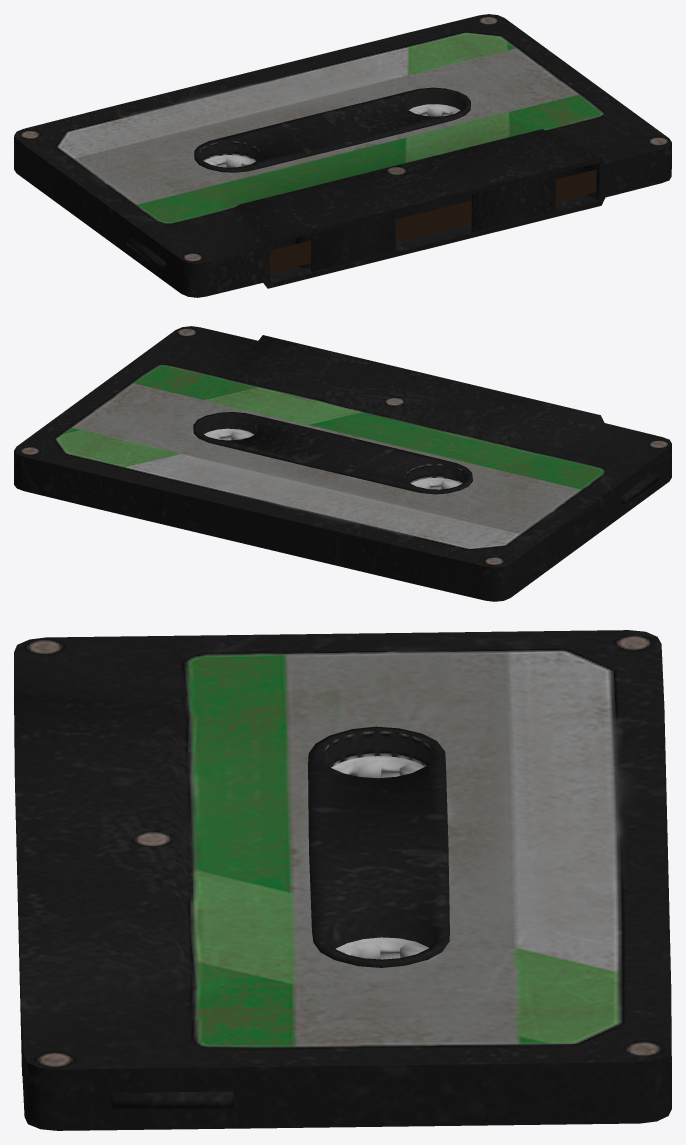
File: SM_prop_Stage1_Cassette.fbx
The picture shows the model from 3 angles, top to bottom: view 1: azimuth 30°, elevation 25°; view 2: azimuth 150°, elevation 25°; view 3: azimuth 270°, elevation 25°; orthographic projection. The views are drawn at different scales.
Parts seen in each view (by area): view 1: SM_prop_Stage1_Cassette; view 2: SM_prop_Stage1_Cassette; view 3: SM_prop_Stage1_Cassette.
Boxes of the visible parts, left/top/right/bottom form: SM_prop_Stage1_Cassette: left=14, top=14, right=671, bottom=297; SM_prop_Stage1_Cassette: left=14, top=326, right=671, bottom=601; SM_prop_Stage1_Cassette: left=14, top=630, right=671, bottom=1130.
Bounding box in the file's own units: 17.82 × 1.68 × 11.23.
Materials: 1 (1 with a texture image).
